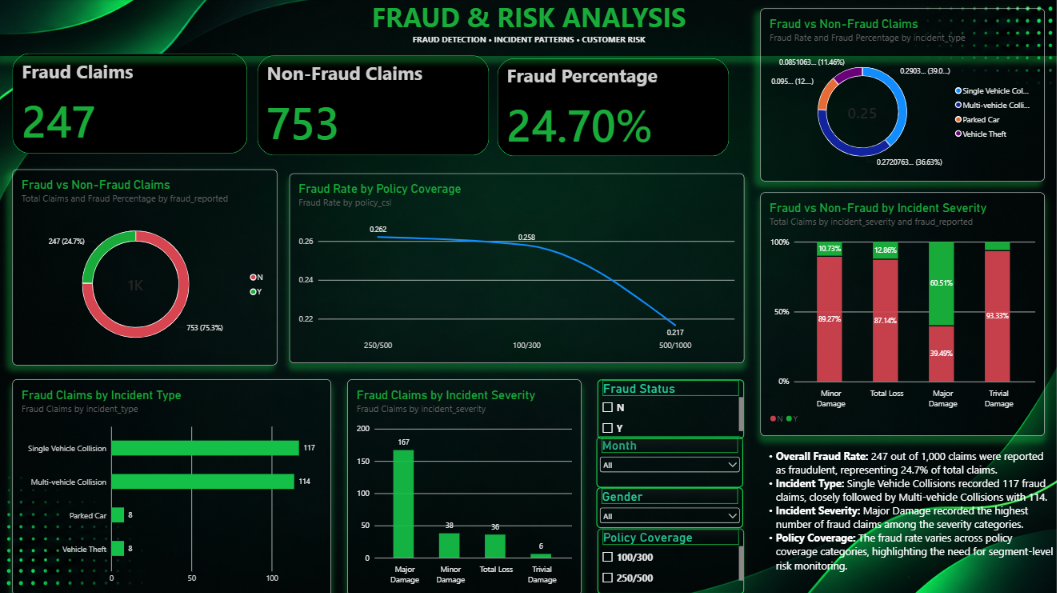

This screenshot's page, from the dashboard's own definition file:
{"tool":"powerbi","page":{"name":"Fraud & Risk Analysis","canvas":[1920,1080],"ordinal":1},"visuals":[{"type":"cardVisual","fields":{"Data":["insurance dataset - LMS (2).Fraud Claims"]},"box":[25.9,99.4,425.6,181.5],"z":0},{"type":"cardVisual","fields":{"Data":["insurance dataset - LMS (2).Non-Fraud Claims"]},"box":[468.8,103.7,419.1,181.5],"z":1},{"type":"cardVisual","fields":{"Data":["insurance dataset - LMS (2).Fraud Percentage"]},"box":[903,108,419.1,177.1],"z":2},{"type":"donutChart","title":"Fraud vs Non-Fraud Claims","fields":{"Category":["insurance dataset - LMS (2).fraud_reported"],"Y":["insurance dataset - LMS (2).Total Claims"]},"box":[25.9,308.9,479.6,354.3],"z":4},{"type":"clusteredBarChart","title":"\tFraud Claims by Incident Type","fields":{"Category":["insurance dataset - LMS (2).incident_type"],"Y":["insurance dataset - LMS (2).Fraud Claims"]},"box":[25.9,689.1,576.8,391],"z":5},{"type":"textbox","box":[0,0,1920.4,103.7],"z":6},{"type":"lineChart","title":"Fraud Rate by Policy Coverage","fields":{"Category":["insurance dataset - LMS (2).policy_csl"],"Y":["insurance dataset - LMS (2).Fraud Rate"]},"box":[527.1,317.6,823,343.5],"z":7},{"type":"clusteredColumnChart","title":"Fraud Claims by Incident Severity","fields":{"Category":["insurance dataset - LMS (2).incident_severity"],"Y":["insurance dataset - LMS (2).Fraud Claims"]},"box":[630.8,689.1,423.4,391],"z":8},{"type":"textbox","box":[1379.1,796.6,531,282],"z":9},{"type":"slicer","fields":{"Values":["insurance dataset - LMS (2).incident month"]},"box":[1082.3,792.8,265.7,92.9],"z":10},{"type":"slicer","fields":{"Values":["insurance dataset - LMS (2).policy_csl"]},"box":[1084.4,959.1,265.7,118.8],"z":11},{"type":"slicer","fields":{"Values":["insurance dataset - LMS (2).insured_sex"]},"box":[1082.3,885.7,265.7,73.4],"z":12},{"type":"slicer","fields":{"Values":["insurance dataset - LMS (2).fraud_reported"]},"box":[1084.4,689.1,265.7,108],"z":13},{"type":"donutChart","title":"Fraud vs Non-Fraud Claims","fields":{"Category":["insurance dataset - LMS (2).incident_type"],"Y":["insurance dataset - LMS (2).Fraud Rate"]},"box":[1379.1,18.5,514.6,312.9],"z":14},{"type":"hundredPercentStackedColumnChart","title":"Fraud vs Non-Fraud by Incident Severity","fields":{"Category":["insurance dataset - LMS (2).incident_severity"],"Series":["insurance dataset - LMS (2).fraud_reported"],"Y":["insurance dataset - LMS (2).Total Claims"]},"box":[1379.1,352,514.6,440.5],"z":15}]}

Visuals, with their boxes in screenshot pixels (x1, y1, x2, y2), scaled from the page's 1920x1080 canvas onto the 1057x593 screenshot:
cardVisual - insurance dataset - LMS (2).Fraud Claims: select_region(14, 55, 249, 154)
cardVisual - insurance dataset - LMS (2).Non-Fraud Claims: select_region(258, 57, 489, 157)
cardVisual - insurance dataset - LMS (2).Fraud Percentage: select_region(497, 59, 728, 157)
"Fraud vs Non-Fraud Claims" donutChart: select_region(14, 170, 278, 364)
"	Fraud Claims by Incident Type" clusteredBarChart: select_region(14, 378, 332, 592)
textbox: select_region(0, 0, 1056, 57)
"Fraud Rate by Policy Coverage" lineChart: select_region(290, 174, 743, 363)
"Fraud Claims by Incident Severity" clusteredColumnChart: select_region(347, 378, 580, 592)
textbox: select_region(759, 437, 1052, 592)
slicer - insurance dataset - LMS (2).incident month: select_region(596, 435, 742, 486)
slicer - insurance dataset - LMS (2).policy_csl: select_region(597, 527, 743, 592)
slicer - insurance dataset - LMS (2).insured_sex: select_region(596, 486, 742, 527)
slicer - insurance dataset - LMS (2).fraud_reported: select_region(597, 378, 743, 438)
"Fraud vs Non-Fraud Claims" donutChart: select_region(759, 10, 1043, 182)
"Fraud vs Non-Fraud by Incident Severity" hundredPercentStackedColumnChart: select_region(759, 193, 1043, 435)
